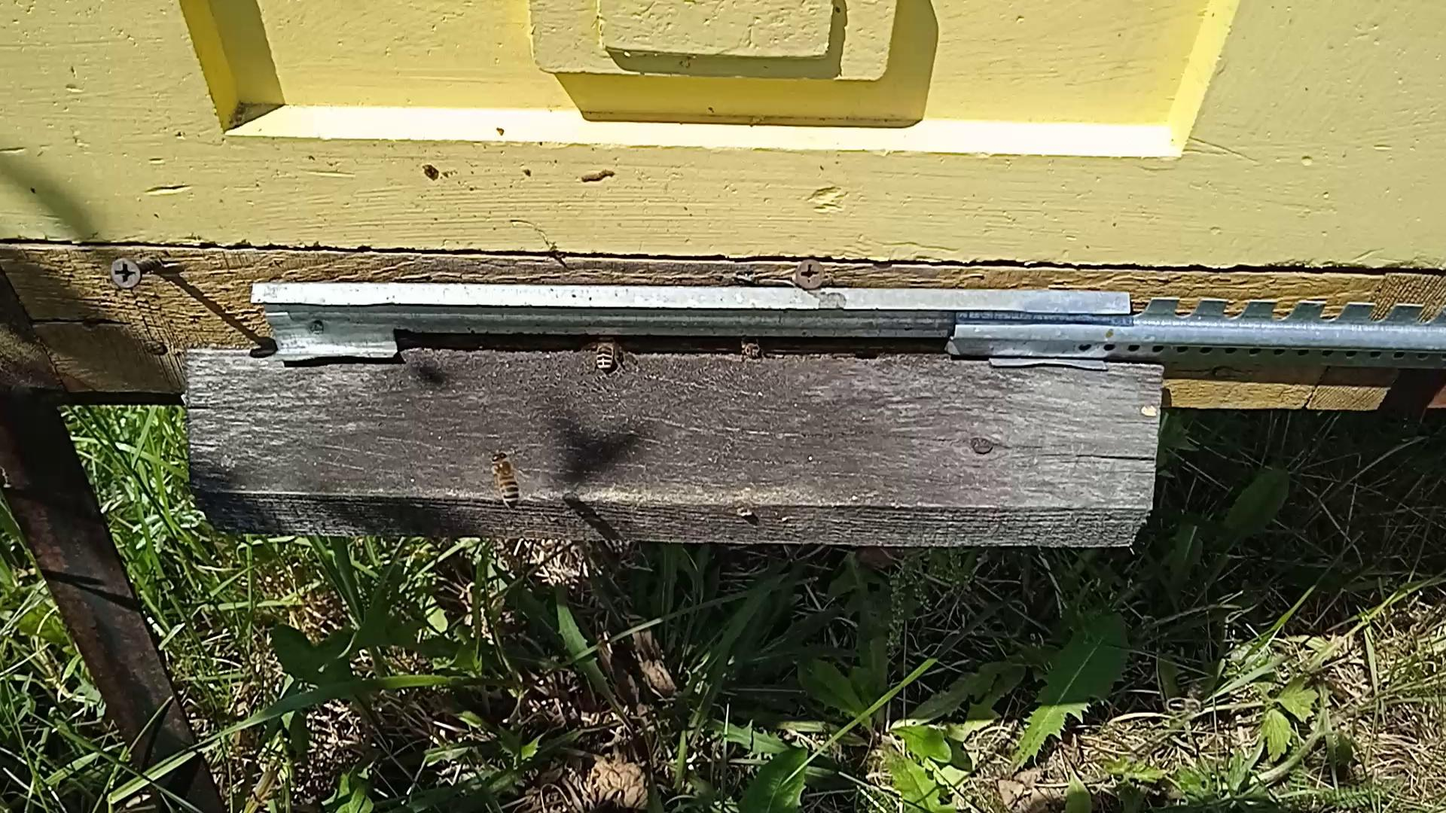worker-bee: (490, 450, 523, 509), (589, 333, 622, 374), (1165, 698, 1204, 717), (737, 335, 764, 361)
